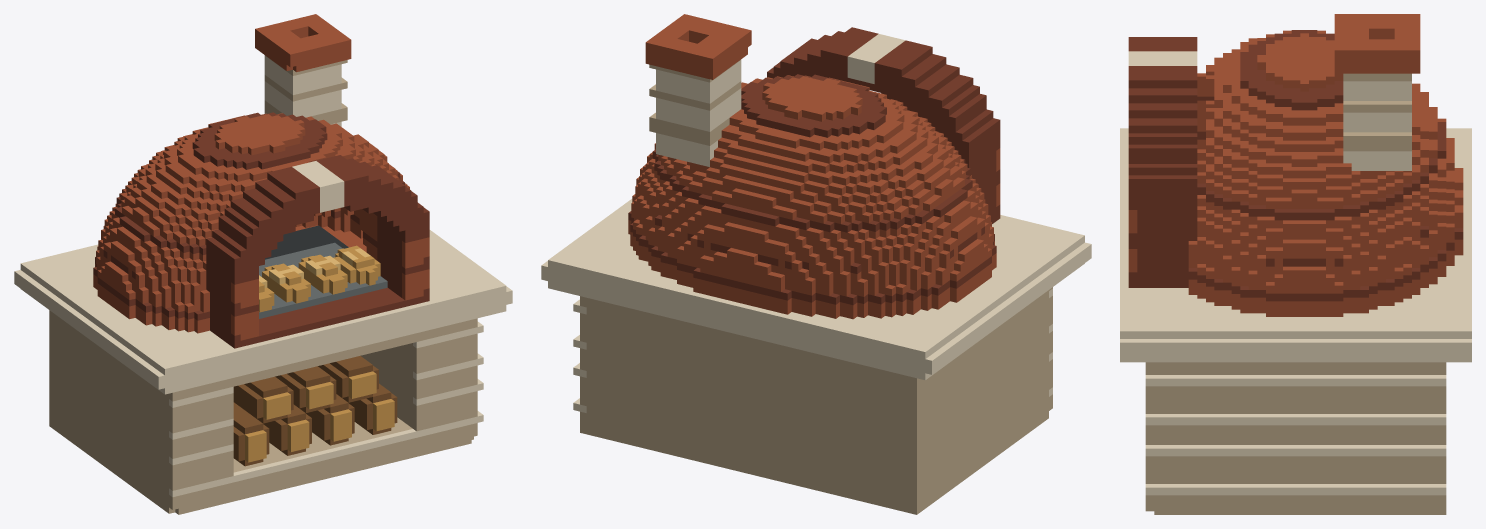
Rendered from bread_oven.glb.
The picture shows the model from 3 angles, left to right: view 1: azimuth 30°, elevation 25°; view 2: azimuth 150°, elevation 25°; view 3: azimuth 270°, elevation 25°; orthographic projection. The views are drawn at different scales.
Parts seen in each view (by area): view 1: bread_oven; view 2: bread_oven; view 3: bread_oven.
Part boxes in pixels (bbox=[...]): bread_oven: bbox=[14, 14, 512, 514]; bread_oven: bbox=[541, 14, 1091, 514]; bread_oven: bbox=[1120, 14, 1471, 514].
Size of the model in its own units: 2.9 by 2.8 by 2.05.
